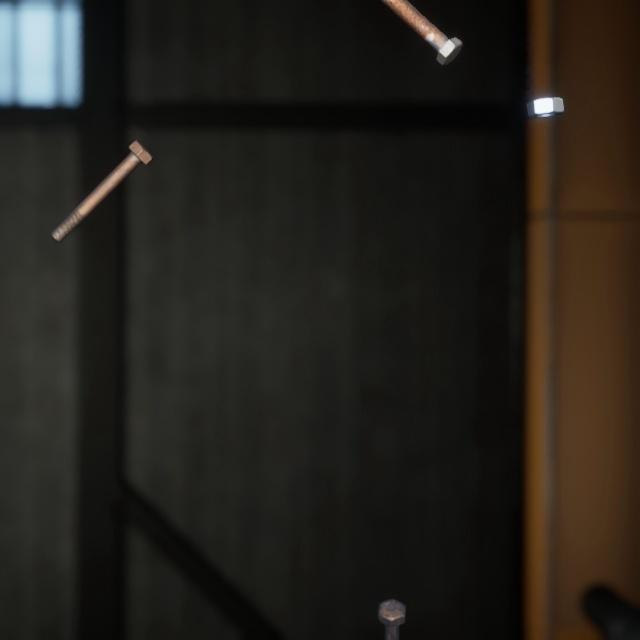bolt: (46, 121, 158, 232), (382, 0, 466, 63), (373, 570, 410, 640)
nut: (522, 80, 568, 110)
